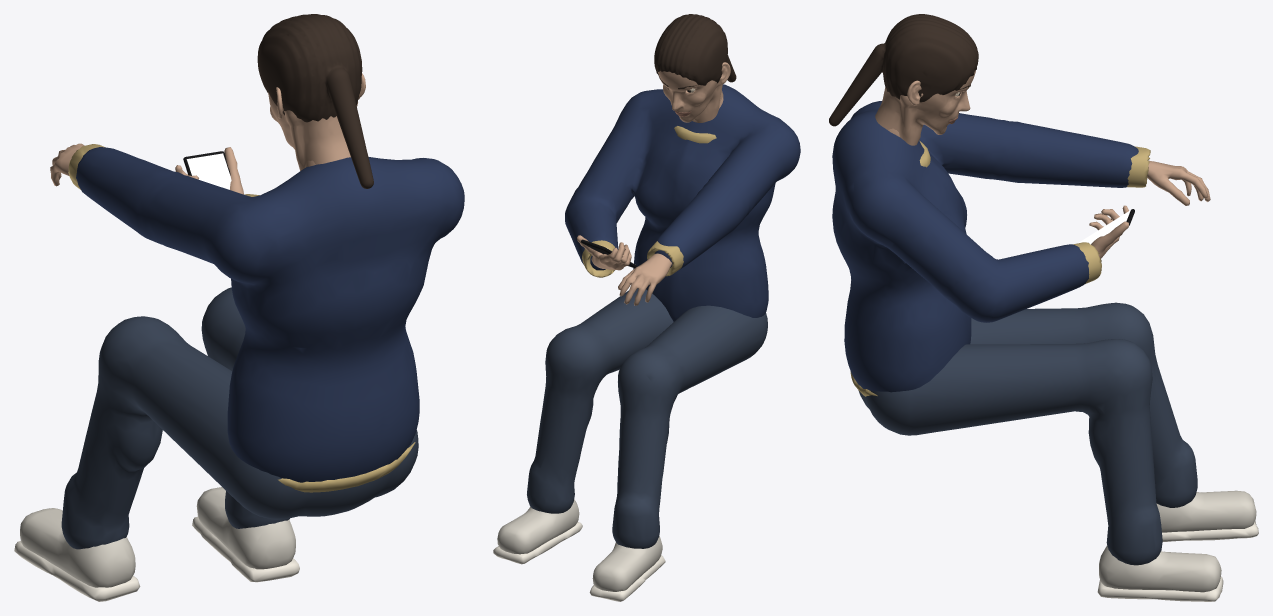
File: driver.glb
3 views of the same model, side by side, from view 1: azimuth 30°, elevation 25°; view 2: azimuth 150°, elevation 25°; view 3: azimuth 270°, elevation 25° (orthographic). The views are drawn at different scales.
Visible parts, largest first — view 1: driver_body, driver_head, driver_hands, phone_screen; view 2: driver_body, driver_head, driver_hands; view 3: driver_body, driver_head, driver_hands.
Boxes of the visible parts, x1,y1,x2,y2 form: driver_body: (14, 147, 464, 601); driver_head: (257, 14, 373, 188); driver_hands: (50, 143, 259, 196); phone_screen: (186, 153, 231, 189); driver_body: (493, 84, 800, 601); driver_head: (654, 14, 736, 122); driver_hands: (577, 235, 683, 305); driver_body: (832, 101, 1258, 601); driver_head: (829, 14, 978, 145); driver_hands: (1073, 146, 1210, 283).
Bounding box in the file's own units: 0.4987 × 1.2 × 0.8576.
